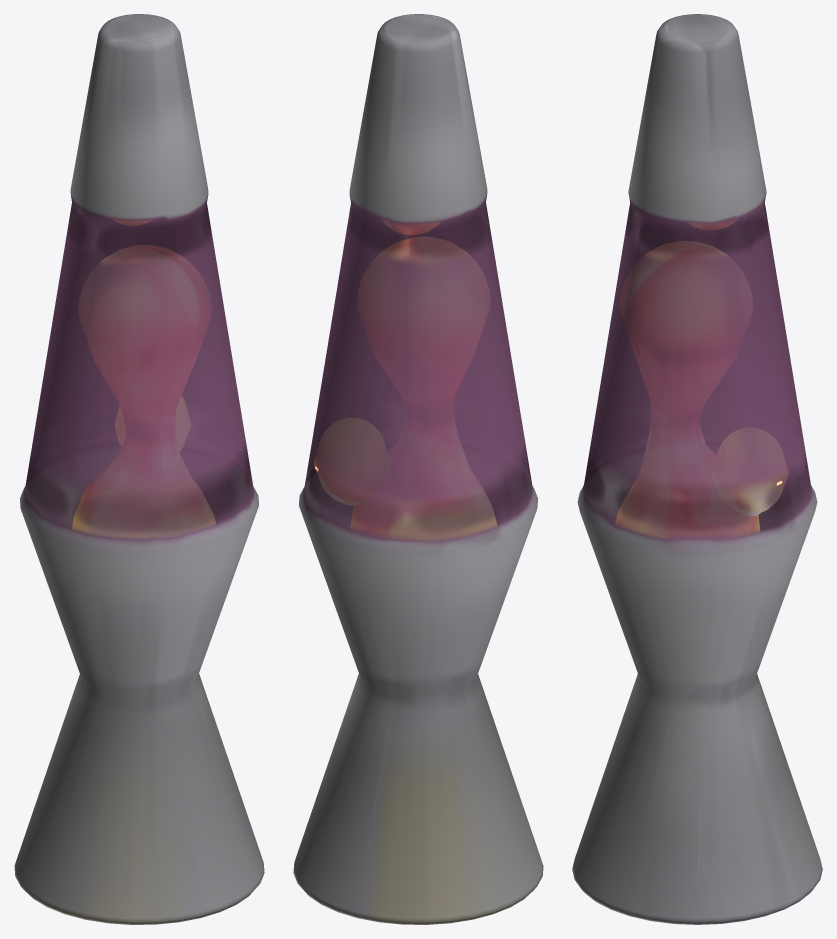
File: lava_lamp.glb
3 renders of one model, left to right at view 1: azimuth 30°, elevation 25°; view 2: azimuth 150°, elevation 25°; view 3: azimuth 270°, elevation 25°, orthographic.
Visible parts, largest first — view 1: EnvaseEnteroLP, bloblp; view 2: EnvaseEnteroLP, bloblp; view 3: EnvaseEnteroLP, bloblp.
Part boxes in pixels (x1,y1,x2,y2): EnvaseEnteroLP: (14,14,264,924); bloblp: (72,220,215,538); EnvaseEnteroLP: (293,14,543,924); bloblp: (314,222,496,539); EnvaseEnteroLP: (572,14,822,924); bloblp: (615,222,787,537).
Bounding box in the file's own units: 24.31 × 90.51 × 24.31.
2 materials, 2 textured.
